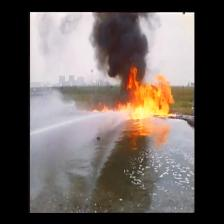fire: (91, 68, 176, 120)
